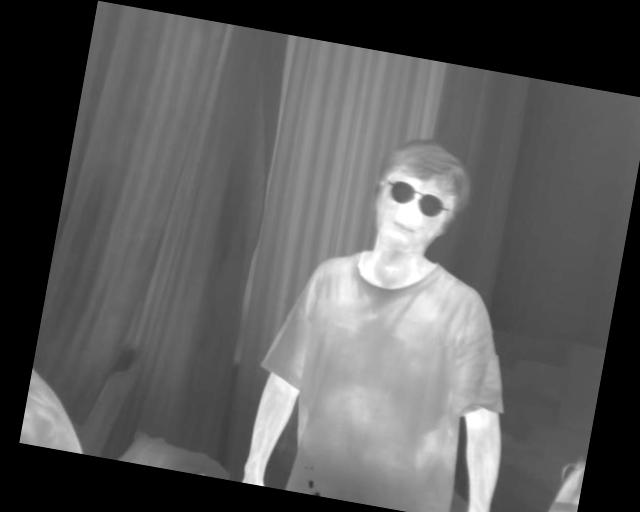face: (364, 130, 479, 264)
